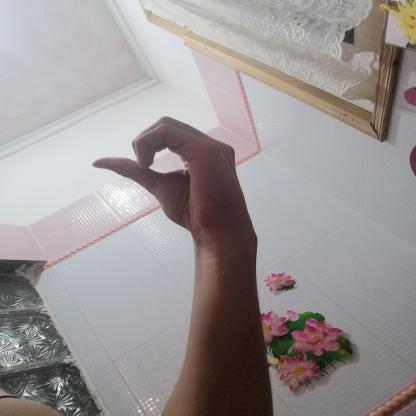WAW: (76, 107, 268, 244)
